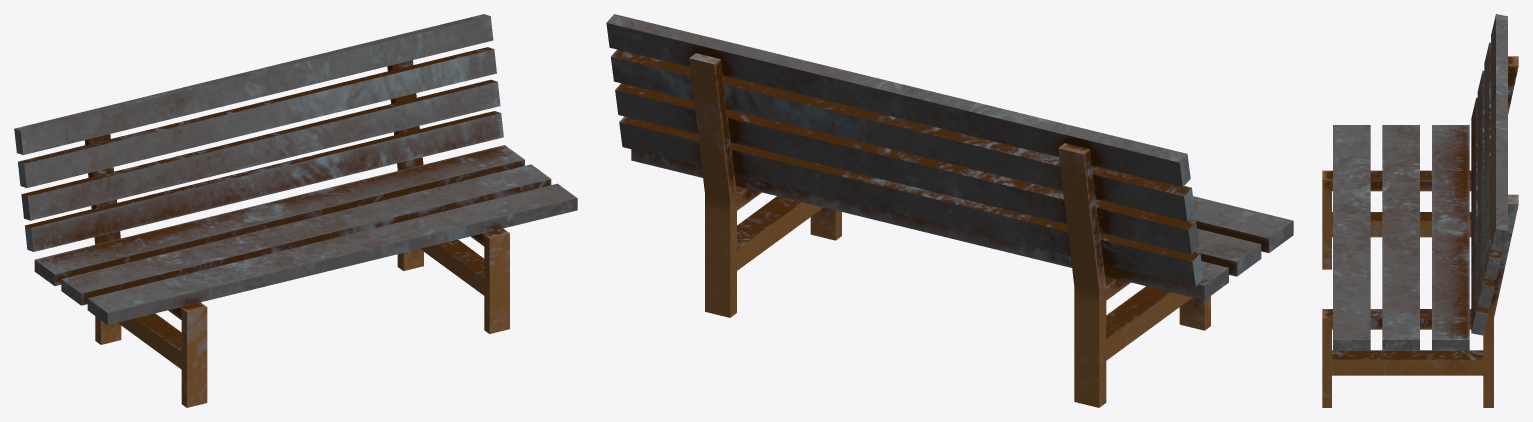
File: SM_bench_01.fbx
3 renders of one model, left to right at view 1: azimuth 30°, elevation 25°; view 2: azimuth 150°, elevation 25°; view 3: azimuth 270°, elevation 25°, orthographic. The views are drawn at different scales.
Visible parts, largest first — view 1: SM_bench_01; view 2: SM_bench_01; view 3: SM_bench_01.
Part boxes in pixels (left/top/right/bottom): SM_bench_01: left=14, top=14, right=577, bottom=407; SM_bench_01: left=606, top=14, right=1293, bottom=407; SM_bench_01: left=1322, top=14, right=1518, bottom=407.
Bounding box in the file's own units: 300 × 138 × 116.
